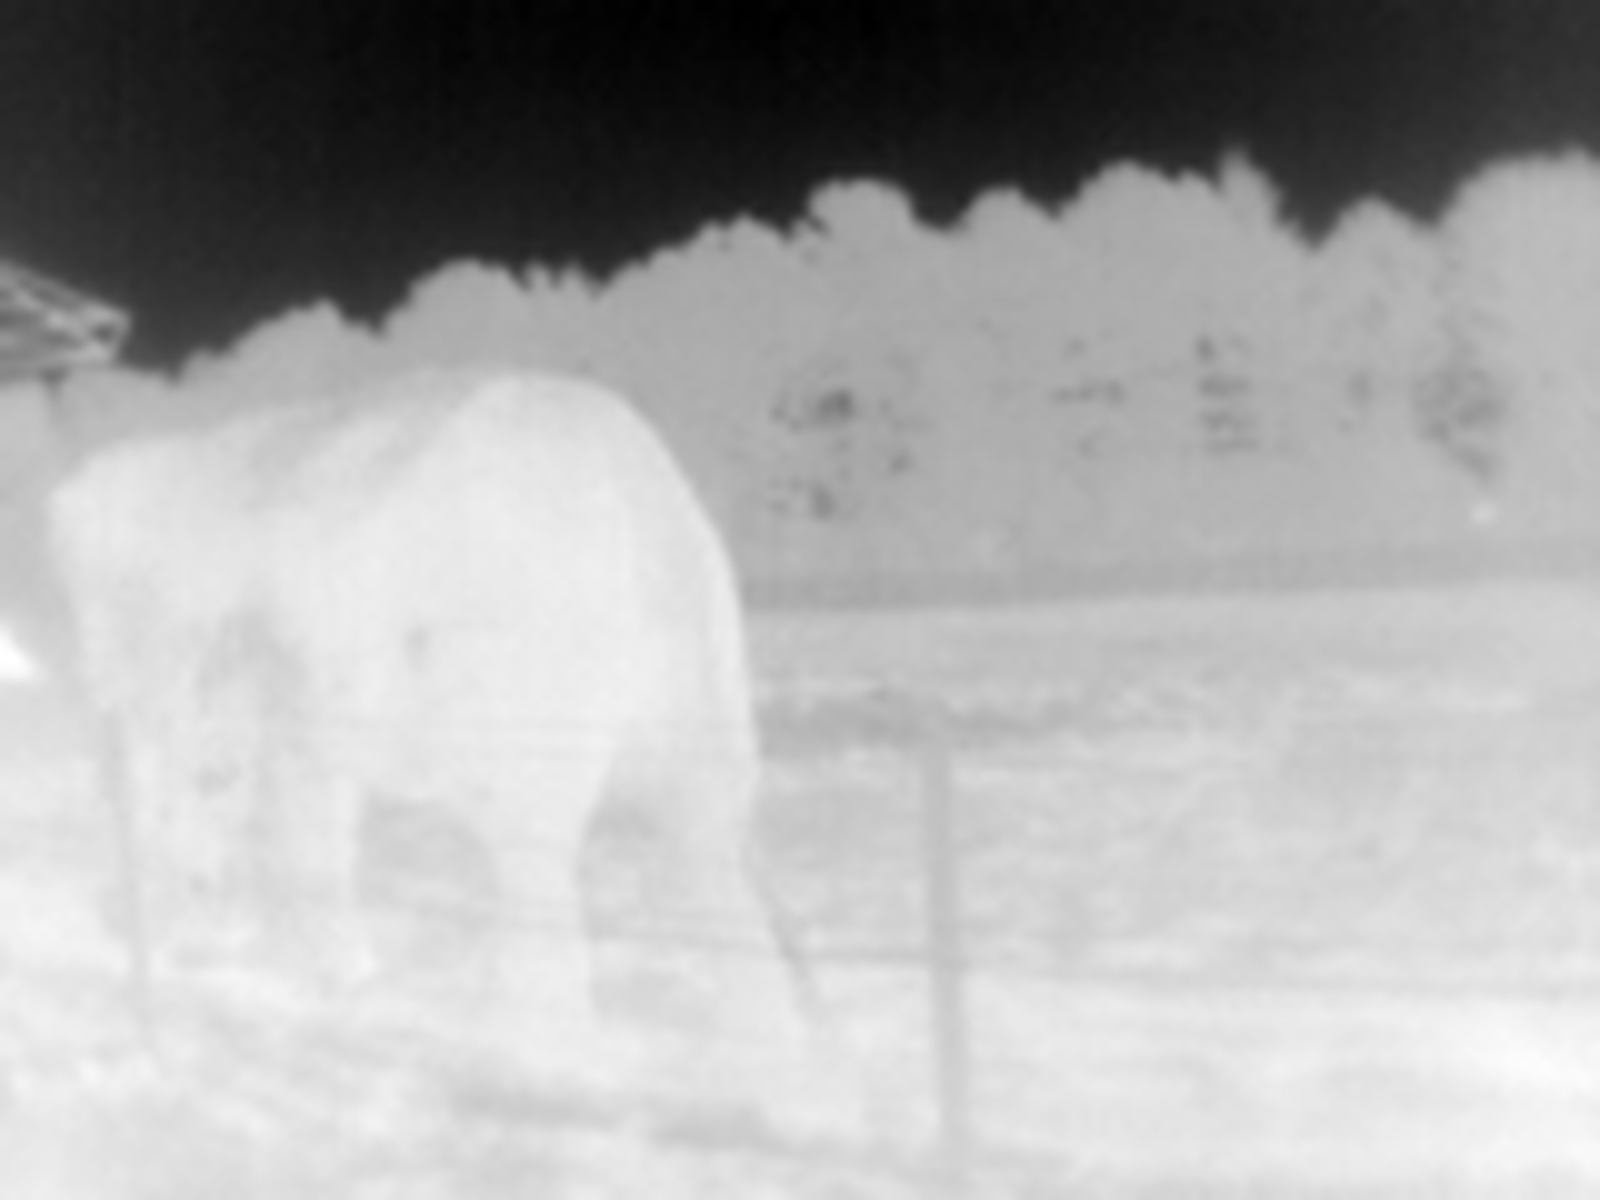elephant: (30, 402, 826, 1111)
